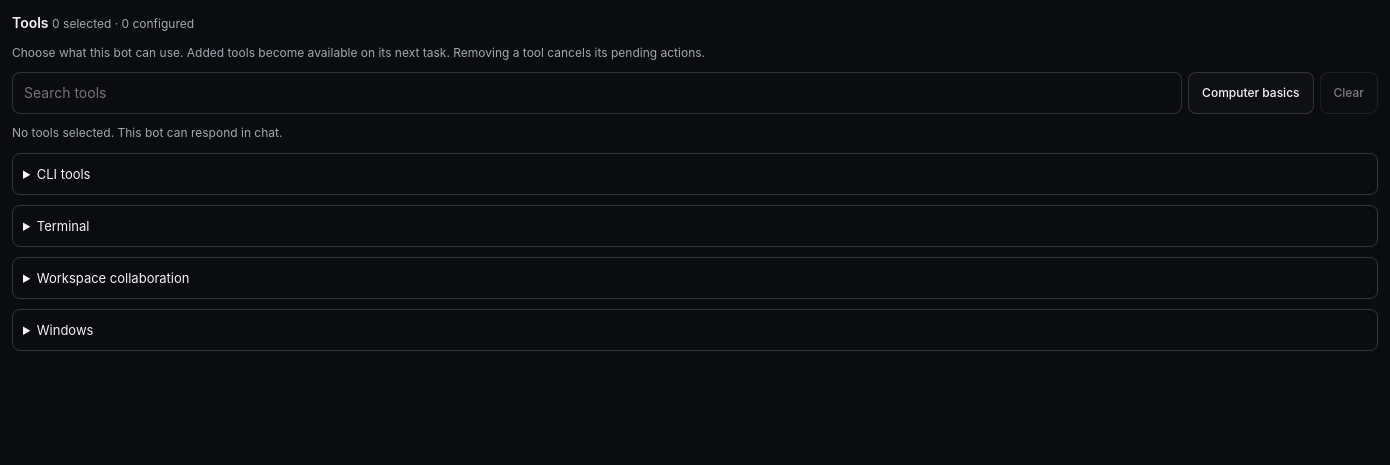
Scenario: shows an installed CLI tool and selects it
Step 1. Click the heading "CLI tools" → [64, 174], box left=37, top=166, right=90, bottom=182
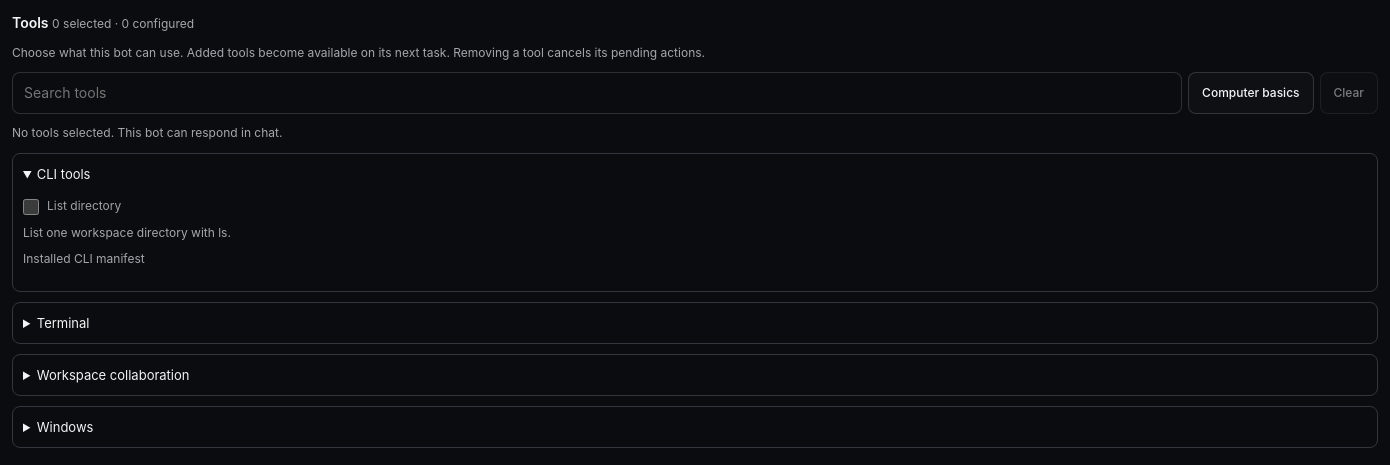
Expected: the text "Installed CLI manifest" is shown, left=23, top=251, right=145, bottom=266
Step 2. Click the checkbox labelled "List directory" → [31, 207], box left=23, top=199, right=39, bottom=215
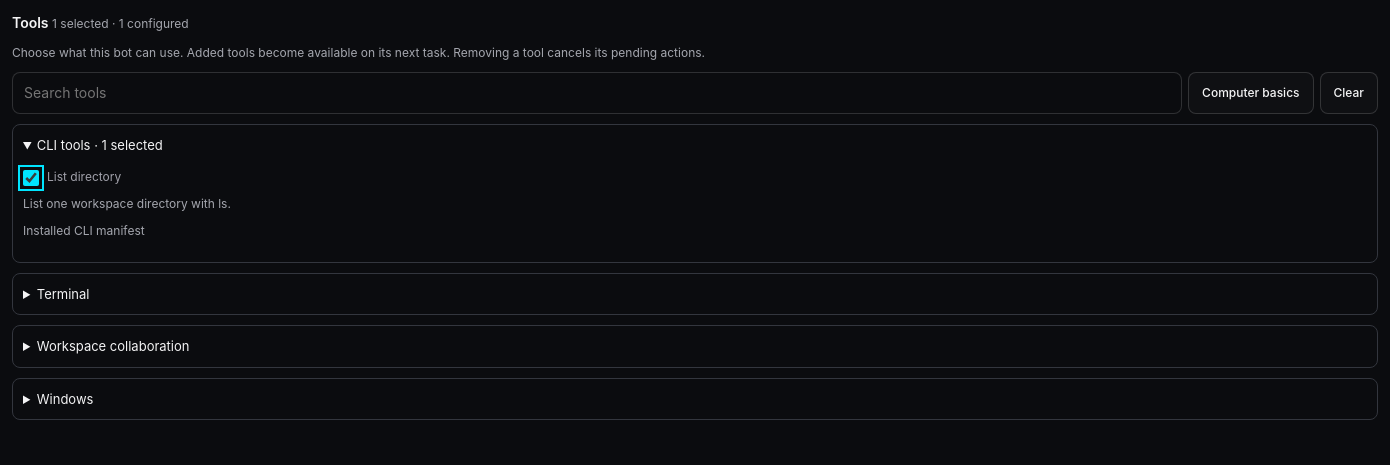
Expected: the text "1 selected · 1 configured" is shown, left=52, top=16, right=189, bottom=31
